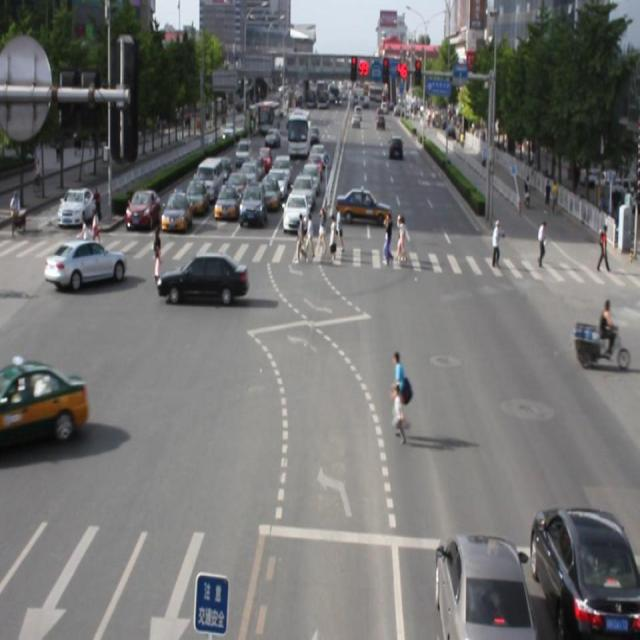car: (523, 495, 640, 640), (429, 524, 530, 640), (1, 362, 88, 442), (158, 251, 251, 306)
